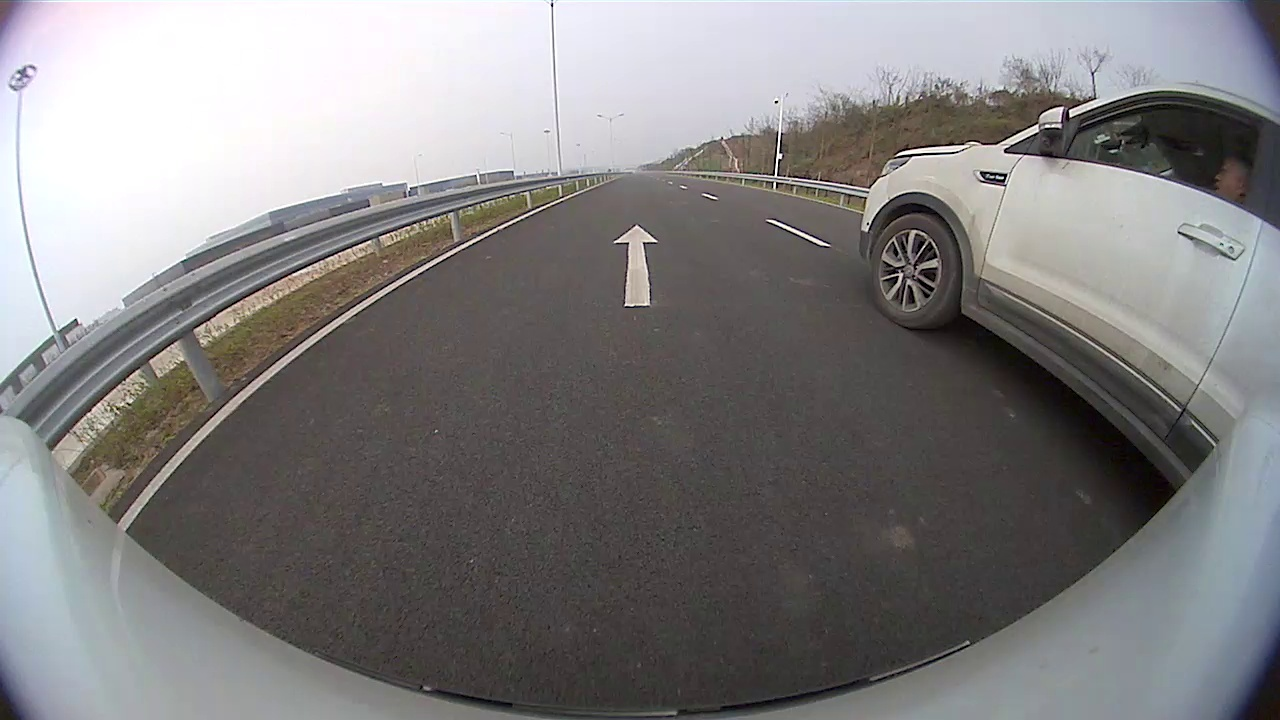car: (857, 80, 1275, 491)
front: (867, 213, 960, 331)
